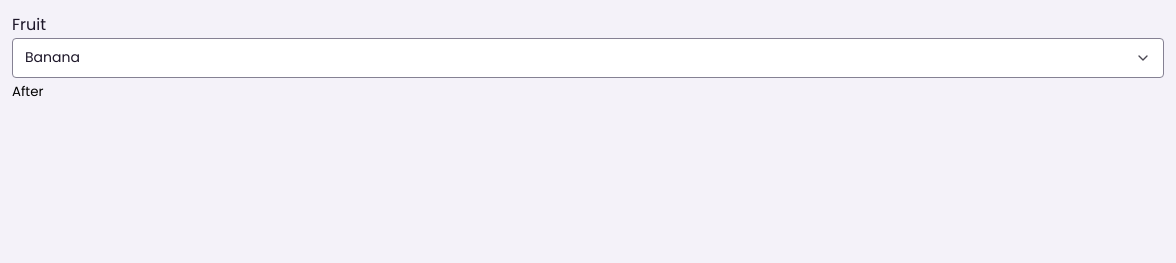
Test: Dropdown › portal and outside click › a press outside closes it without a change
Click the dropdown named "Fruit": (52, 57) [12, 38, 1164, 78]
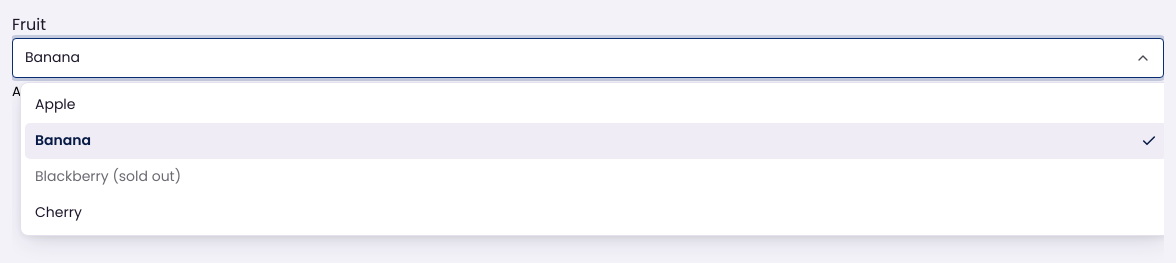
Click the element showing "Fruit Banana After Apple Banana Blackberry (sold out) Cherry": (588, 58) [12, 12, 1164, 103]
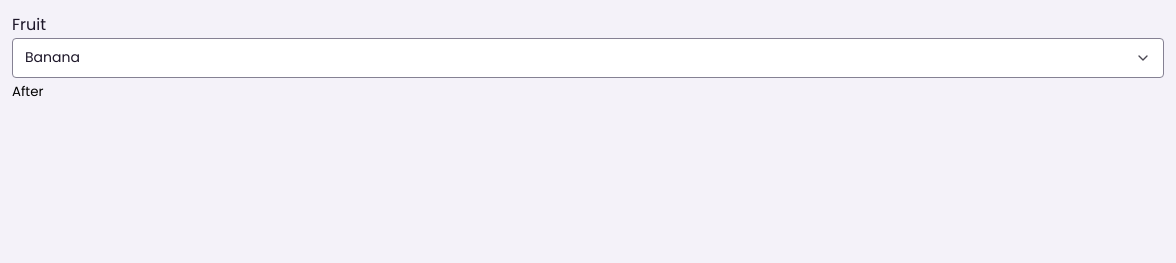
Expected: the list is gone
